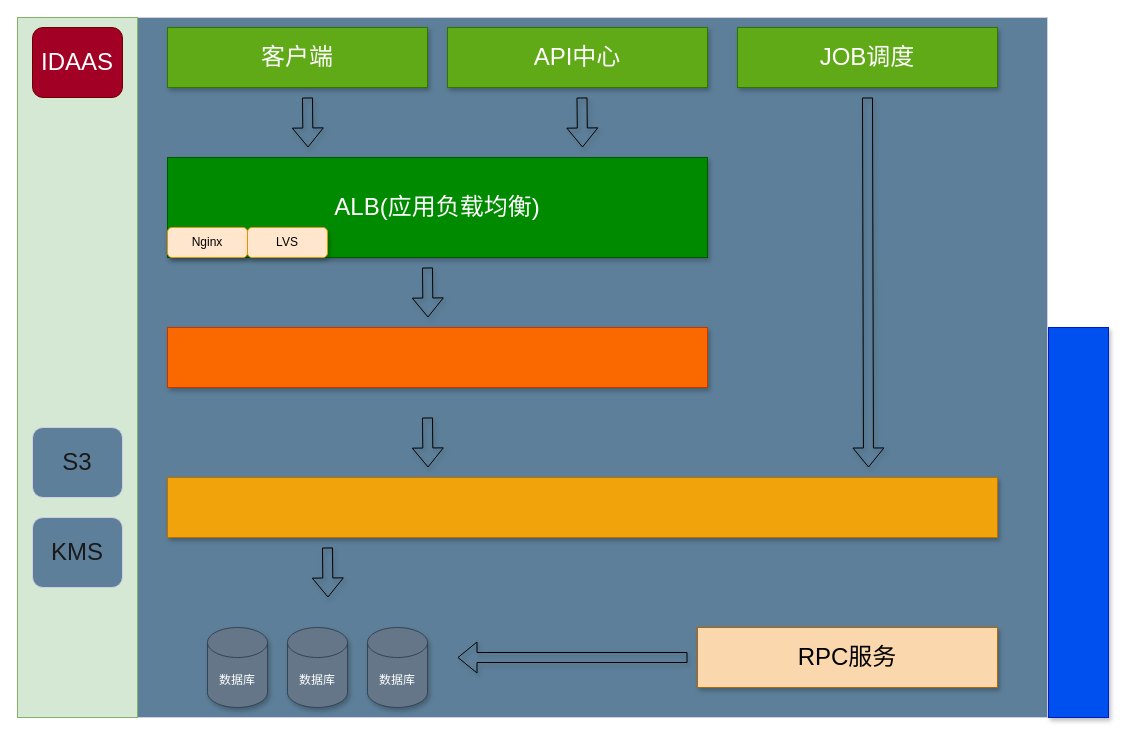
Some shapes in this 1132 by 742 pixel diagram are drawn without their labels. The shapes that lost their labels are listed below. From the top down, each one's centre as x and y in pixels, then its label:
the point at 438,358: API网关
the point at 583,508: API服务
the point at 1079,523: 公 共 服 务
